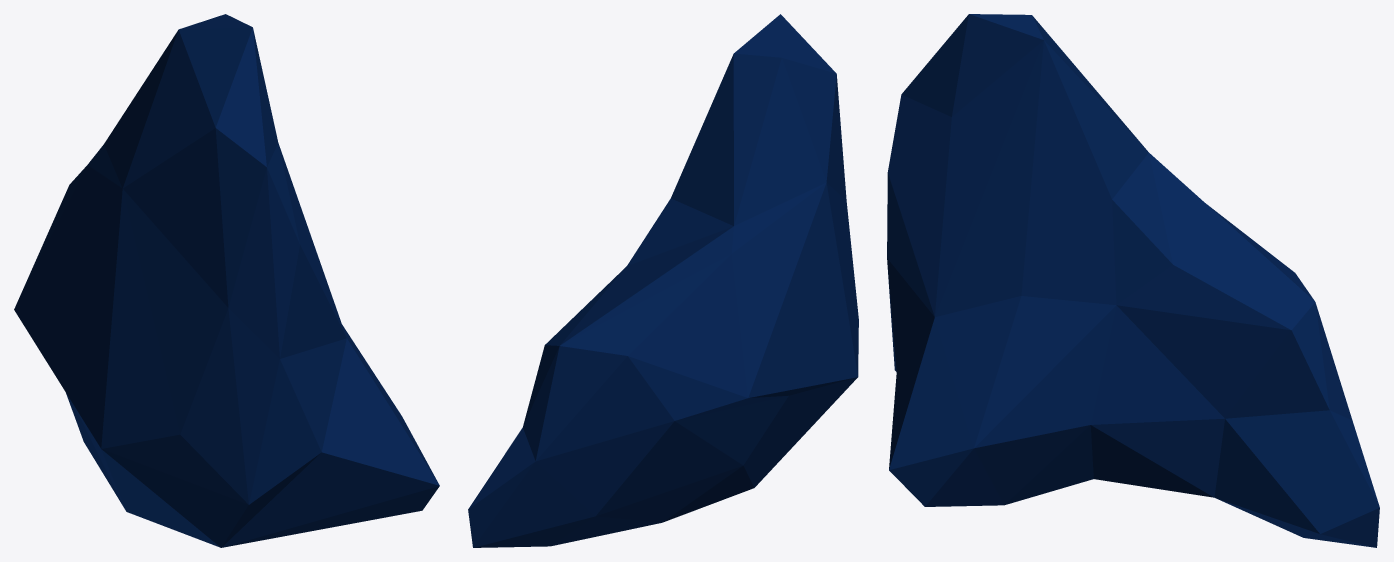
The model's file is Cave_stone_14.glb.
3 renders of one model, left to right at view 1: azimuth 30°, elevation 25°; view 2: azimuth 150°, elevation 25°; view 3: azimuth 270°, elevation 25°, orthographic. The views are drawn at different scales.
Parts seen in each view (by area): view 1: Cave_stone_14; view 2: Cave_stone_14; view 3: Cave_stone_14.
Part boxes in pixels (bbox=[...]): Cave_stone_14: bbox=[14, 14, 439, 547]; Cave_stone_14: bbox=[468, 14, 858, 547]; Cave_stone_14: bbox=[887, 14, 1379, 547].
Size of the model in its own units: 1.14 by 2.08 by 1.92.
